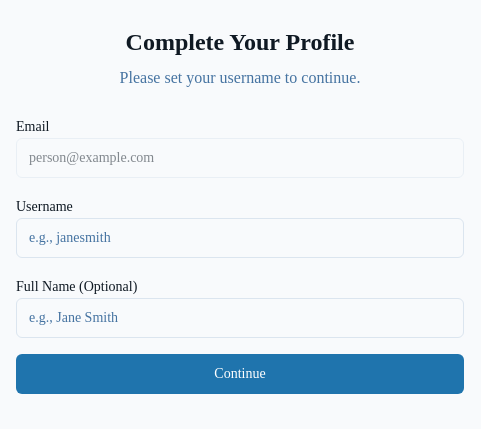
Test: profile completion › restores the form when no profile row was updated
Type "new-user" into the field labelled "Username". click: coordinates (240, 238)
box: [16,218,464,258]
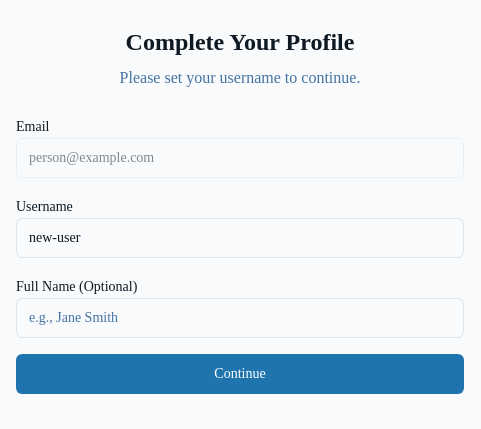
Click the button "Continue". click: coordinates (240, 374)
box: [16,354,464,394]
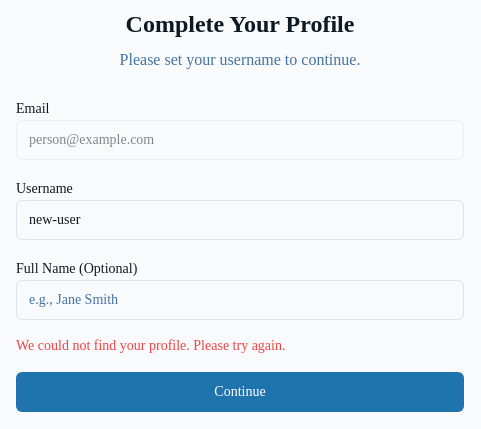
Expected: the button "Continue" is enabled, [16,372,464,412]
Now the message reads "We could not find your profile. Please try again.", box [16,338,286,353]
